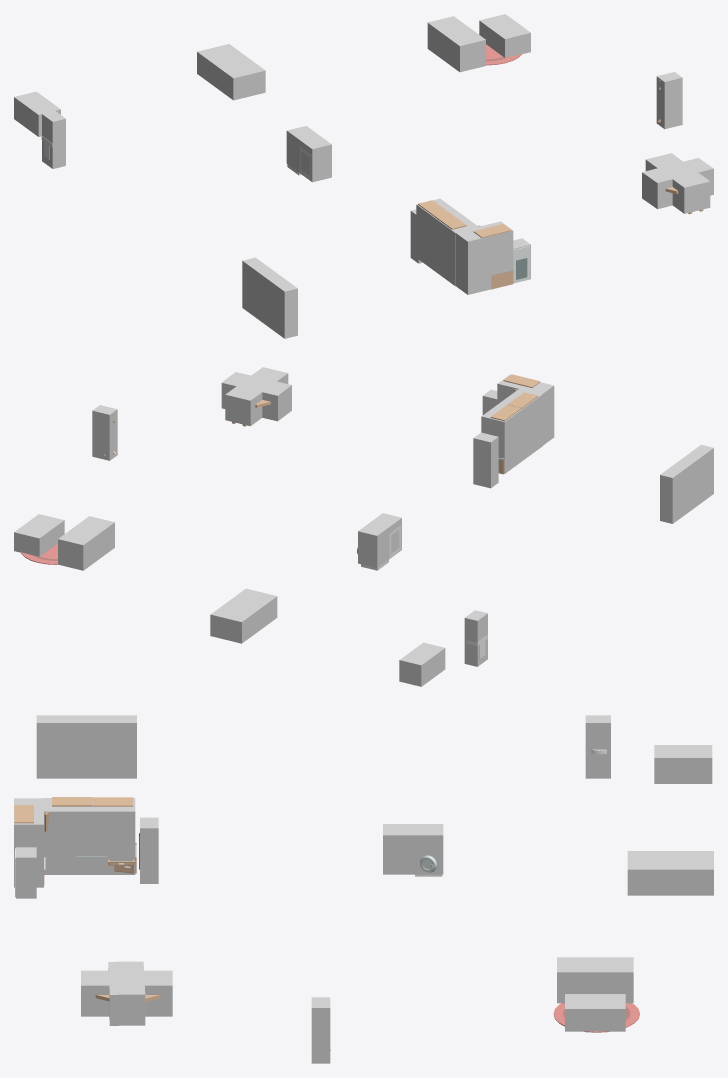
The model's file is Kagu.gltf.
The picture shows the model from 3 angles, top to bottom: view 1: azimuth 30°, elevation 25°; view 2: azimuth 150°, elevation 25°; view 3: azimuth 270°, elevation 25°; orthographic projection. The views are drawn at different scales.
Visible parts, largest first — view 1: COL1, COL2, COL8, COL9, COL4, COL6, COL3, COL7, COL10, COL11, kitchenFridge(Clone); view 2: COL1, COL2, COL8, COL9, COL4, COL6, COL3, COL10, COL5, COL7, COL11; view 3: COL1, COL8, COL2, COL9, COL4, COL6, COL3, COL10, COL11, COL7, COL5, rugRound(Clone).
Boxes of the visible parts, box(x1,y1,x2,y2) form: COL1: box(416, 198, 530, 294); COL2: box(642, 153, 713, 213); COL8: box(242, 257, 297, 338); COL9: box(197, 44, 265, 100); COL4: box(427, 16, 485, 72); COL6: box(286, 126, 331, 182); COL3: box(479, 14, 530, 57); COL7: box(656, 72, 682, 129); COL10: box(14, 91, 60, 136); COL11: box(42, 111, 65, 168); kitchenFridge(Clone): box(513, 246, 530, 283); COL1: box(481, 375, 554, 473); COL2: box(221, 367, 291, 426); COL8: box(660, 445, 713, 523); COL9: box(210, 588, 277, 643); COL4: box(58, 516, 114, 570); COL6: box(358, 513, 401, 567); COL3: box(14, 514, 64, 556); COL10: box(399, 642, 445, 686); COL5: box(473, 432, 498, 488); COL7: box(92, 405, 117, 460); COL11: box(464, 610, 487, 666); COL1: box(14, 798, 135, 898); COL8: box(36, 715, 136, 778); COL2: box(81, 961, 172, 1025); COL9: box(627, 851, 713, 895); COL4: box(557, 957, 633, 1003); COL6: box(383, 824, 443, 874); COL3: box(565, 994, 625, 1031); COL10: box(654, 745, 712, 783); COL11: box(585, 715, 610, 778); COL7: box(311, 997, 330, 1063); COL5: box(140, 817, 158, 883); rugRound(Clone): box(553, 1003, 639, 1032).
Bounding box in the file's own units: 7.47 × 0.8751 × 7.44.
